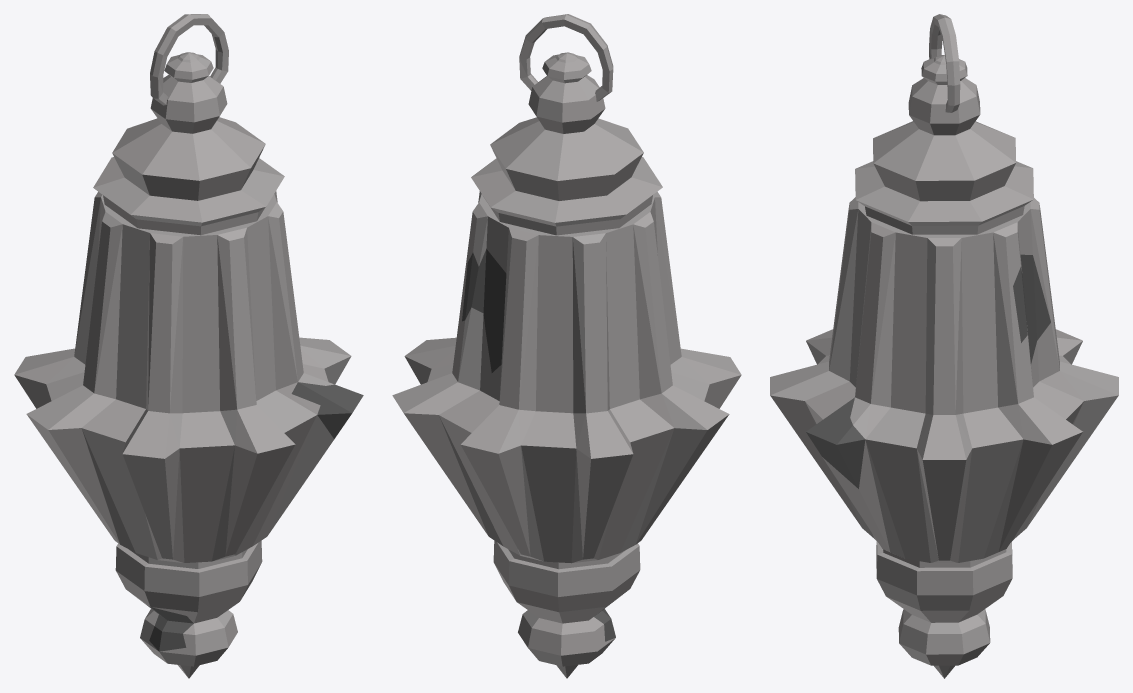
The model's file is MetalPendulumTrap_9.fbx.
3 renders of one model, left to right at view 1: azimuth 30°, elevation 25°; view 2: azimuth 150°, elevation 25°; view 3: azimuth 270°, elevation 25°, orthographic.
Visible parts, largest first — view 1: MetalPendulumTrap_9; view 2: MetalPendulumTrap_9; view 3: MetalPendulumTrap_9.
Boxes of the visible parts, x1,y1,x2,y2 form: MetalPendulumTrap_9: (14,14,363,678); MetalPendulumTrap_9: (392,14,741,678); MetalPendulumTrap_9: (770,14,1118,678).
Size of the model in its own units: 37.86 by 79.26 by 37.86.
